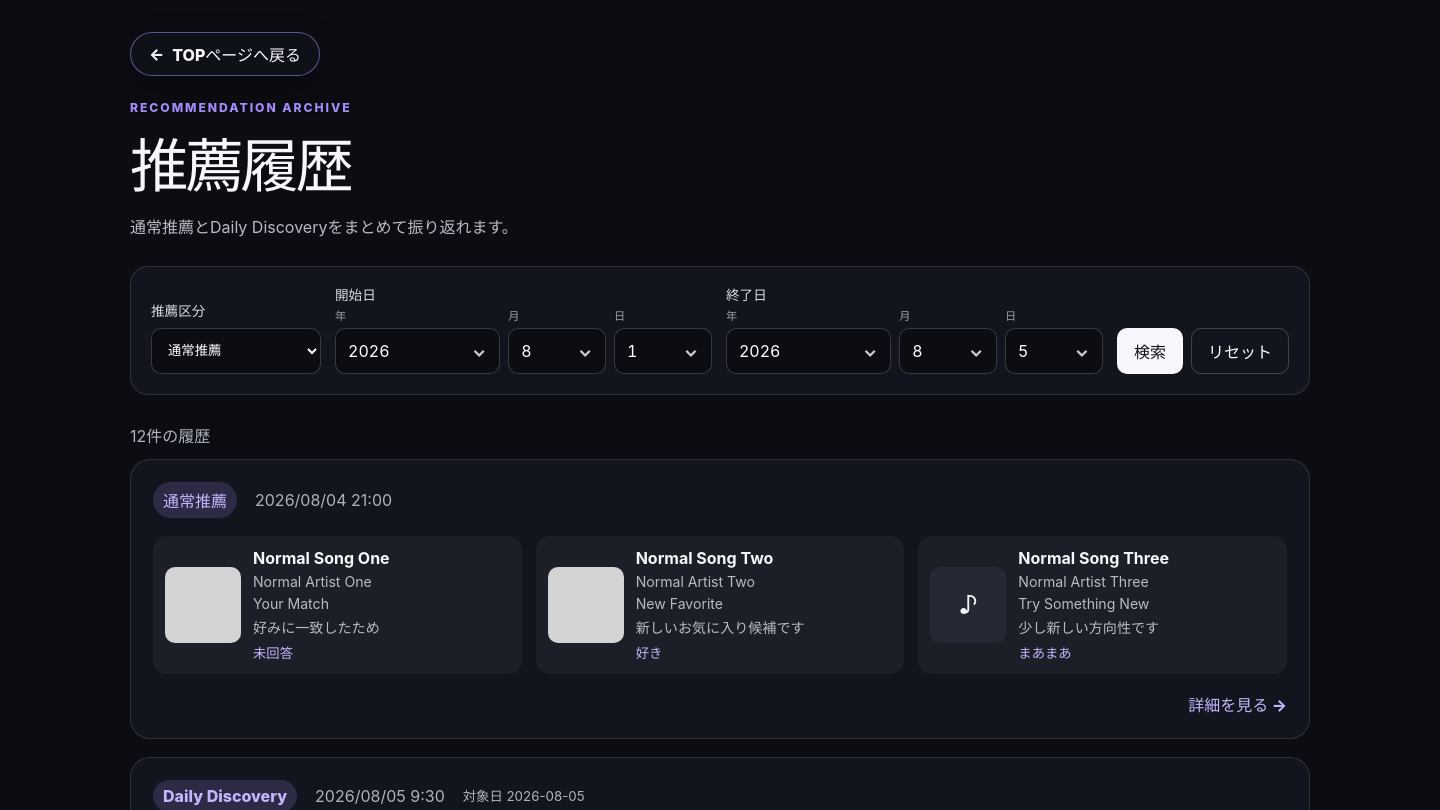
Test: RecommendationHistoryPage › Filterリセット時に全条件を解除しPage 1を取得する
The image size is (1440, 810).
Expected: the heading "Normal Song One" is shown, [253,548,390,568]
Click the button "リセット": (1240, 350) [1191,328,1289,374]
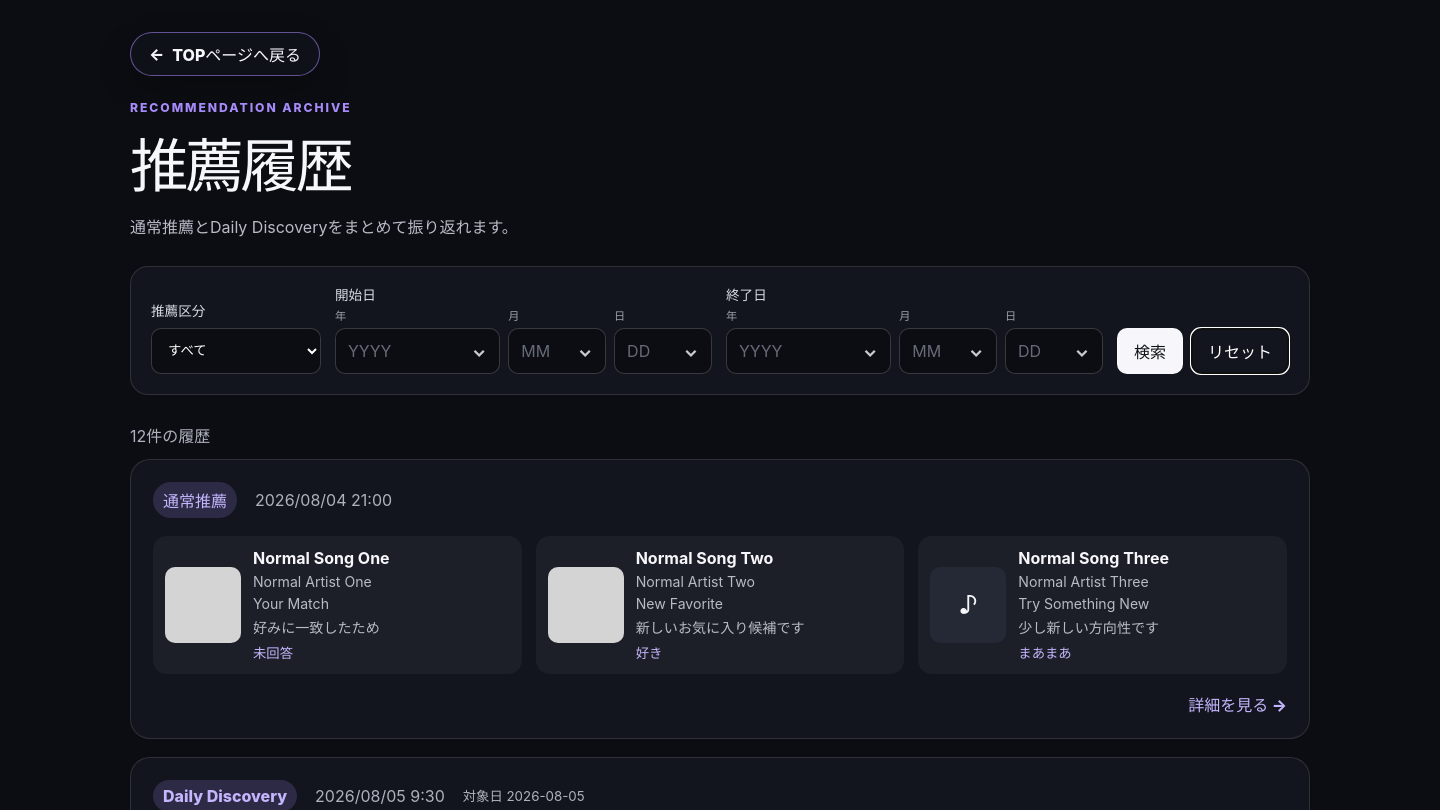
Expected: the dropdown labelled "推薦区分" shows "すべて", [151,328,321,374]
Expected: the dropdown named "開始日 年" is empty, [335,328,500,374]
Expected: the dropdown named "開始日 月" is empty, [508,328,606,374]
